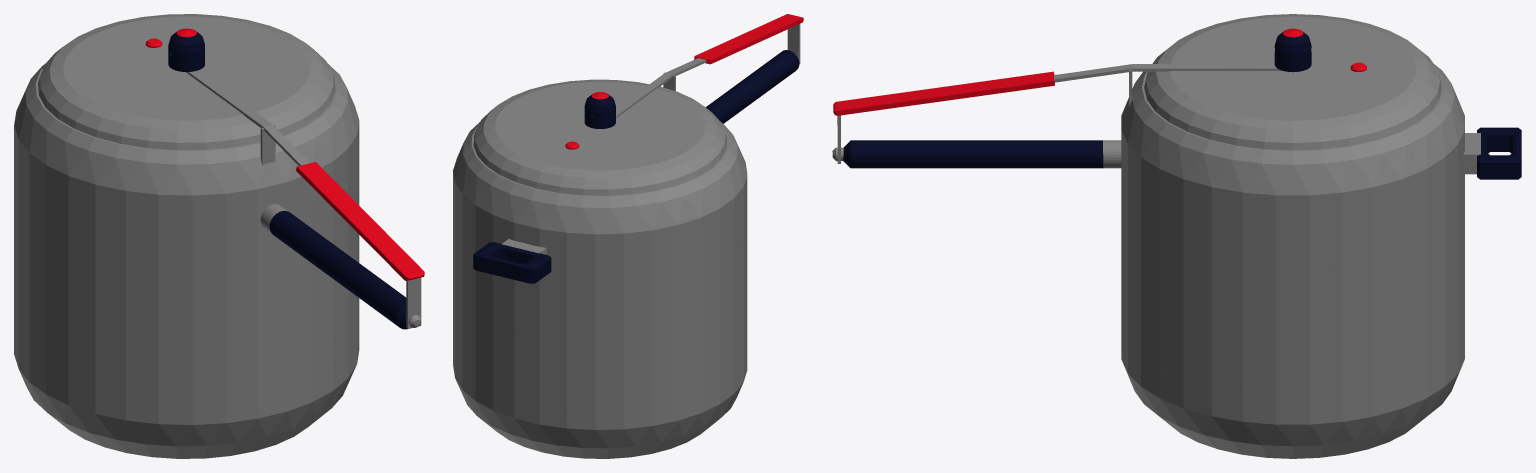
Rendered from PanelaPressao.fbx.
The picture shows the model from 3 angles, left to right: view 1: azimuth 30°, elevation 25°; view 2: azimuth 150°, elevation 25°; view 3: azimuth 270°, elevation 25°; orthographic projection. The views are drawn at different scales.
Visible parts, largest first — view 1: Cylinder, Cylinder.003, Cylinder.001, Cube.005, Cylinder.004, Cube.002, Cube.006, Cube.004, Cube.007; view 2: Cylinder, Cylinder.003, Cylinder.001, Cube.001, Cube.005, Cylinder.004, Cube.002, Cube.006; view 3: Cylinder, Cylinder.003, Cylinder.001, Cube.005, Cube.001, Cylinder.004, Cube.002.
Boxes of the visible parts, x1,y1,x2,y2 form: Cylinder: (14, 63, 359, 458); Cylinder.003: (38, 14, 335, 150); Cylinder.001: (269, 210, 407, 329); Cube.005: (296, 162, 424, 280); Cylinder.004: (168, 32, 204, 71); Cube.002: (186, 70, 271, 127); Cube.006: (406, 277, 421, 328); Cube.004: (263, 124, 309, 165); Cube.007: (260, 125, 275, 165); Cylinder: (453, 122, 747, 458); Cylinder.003: (473, 79, 726, 195); Cylinder.001: (705, 50, 799, 123); Cube.001: (473, 242, 551, 283); Cube.005: (694, 14, 803, 64); Cylinder.004: (584, 95, 615, 128); Cube.002: (616, 73, 672, 117); Cube.006: (787, 24, 800, 64); Cylinder: (1121, 64, 1464, 458); Cylinder.003: (1144, 14, 1441, 150); Cylinder.001: (843, 140, 1103, 168); Cube.005: (833, 71, 1054, 115); Cube.001: (1477, 127, 1521, 179); Cylinder.004: (1274, 31, 1311, 72); Cube.002: (1131, 64, 1282, 71).
Size of the model in its own units: 134 by 159 by 268.
3 materials, 2 textured.
